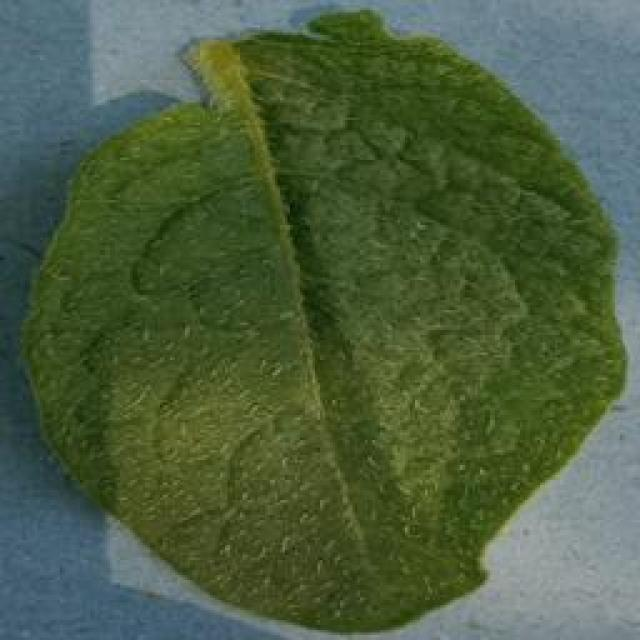Potato_Healthy: (24, 10, 619, 631)
